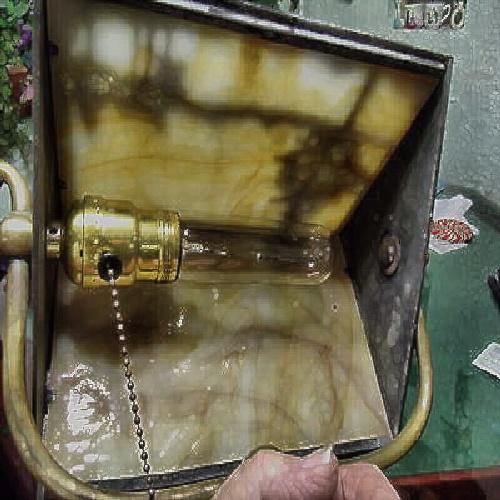lamp: (34, 12, 429, 483)
